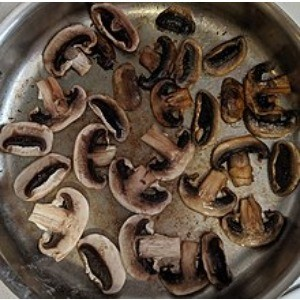mushroom_brain food: (74, 108, 116, 188), (112, 233, 183, 279), (32, 202, 82, 257), (184, 174, 235, 213)
